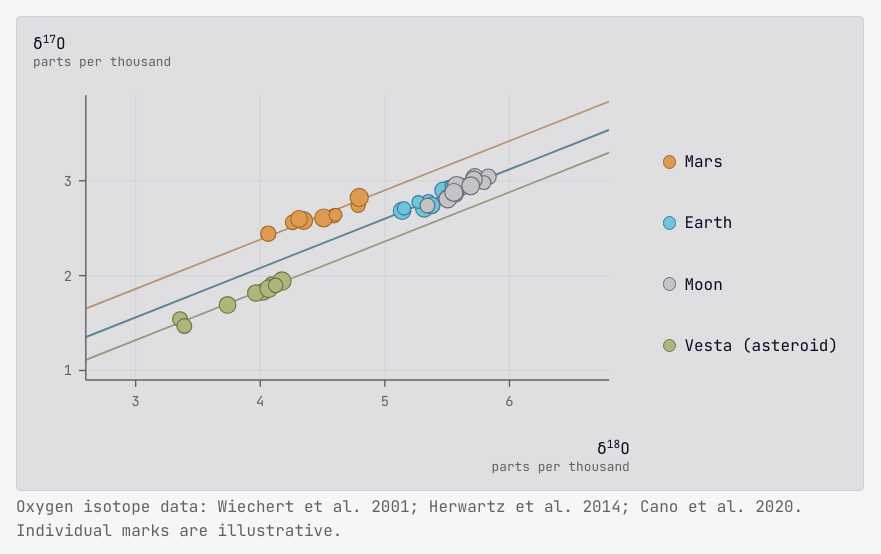
it: IsotopeMatchPlot › should open an info card with the activated body value and detail
Click the button "Mars" at (750, 162), box [654,139,847,184]
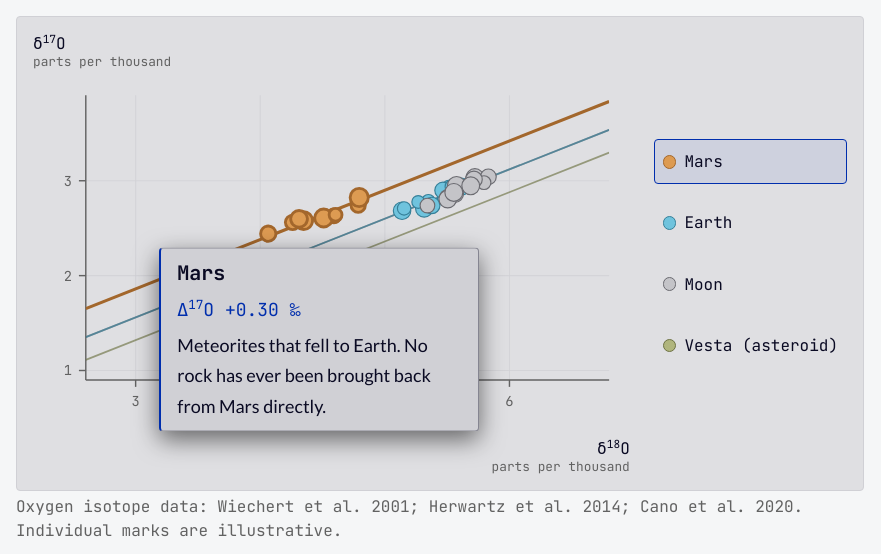
Now the text "Meteorites that fell to Earth. No rock has ever been brought back from Mars directly." is shown, box [177,334,431,417]
